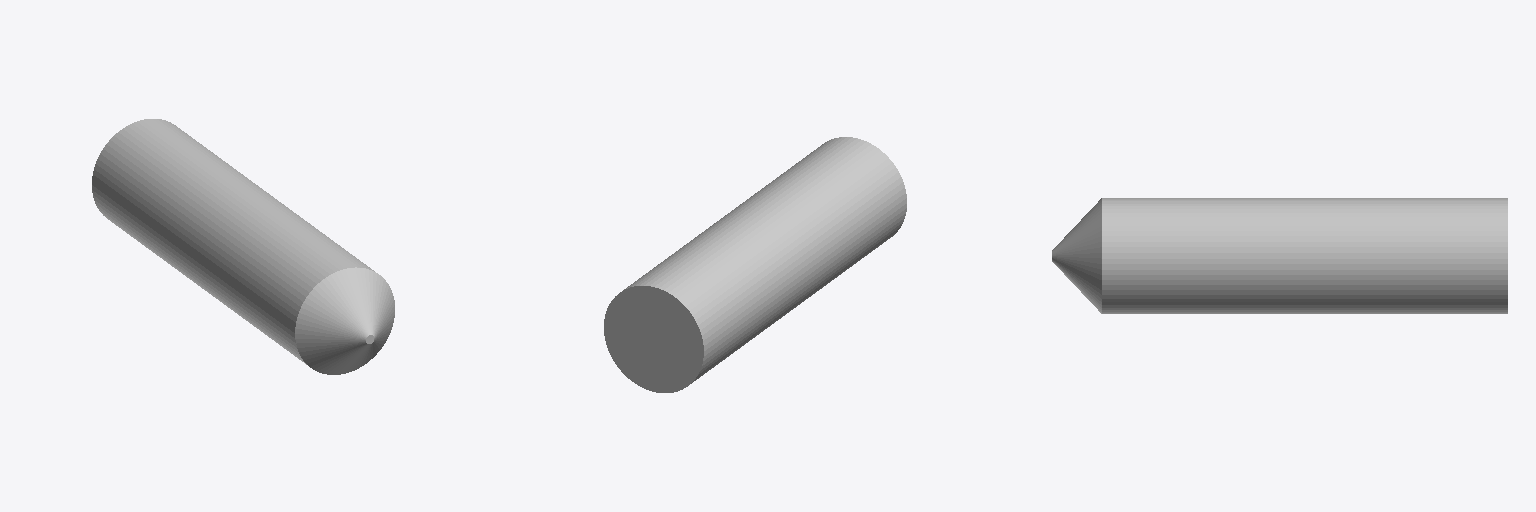
File: Candle6.obj
3 views of the same model, side by side, from view 1: azimuth 30°, elevation 25°; view 2: azimuth 150°, elevation 25°; view 3: azimuth 270°, elevation 25° (orthographic).
Parts seen in each view (by area): view 1: Candle6_Cylinder.007; view 2: Candle6_Cylinder.007; view 3: Candle6_Cylinder.007.
Part boxes in pixels (left/top/right/bottom): Candle6_Cylinder.007: left=92, top=119, right=394, bottom=374; Candle6_Cylinder.007: left=604, top=137, right=906, bottom=392; Candle6_Cylinder.007: left=1052, top=198, right=1507, bottom=313.
Bounding box in the file's own units: 0.1292 × 0.1292 × 0.5098.